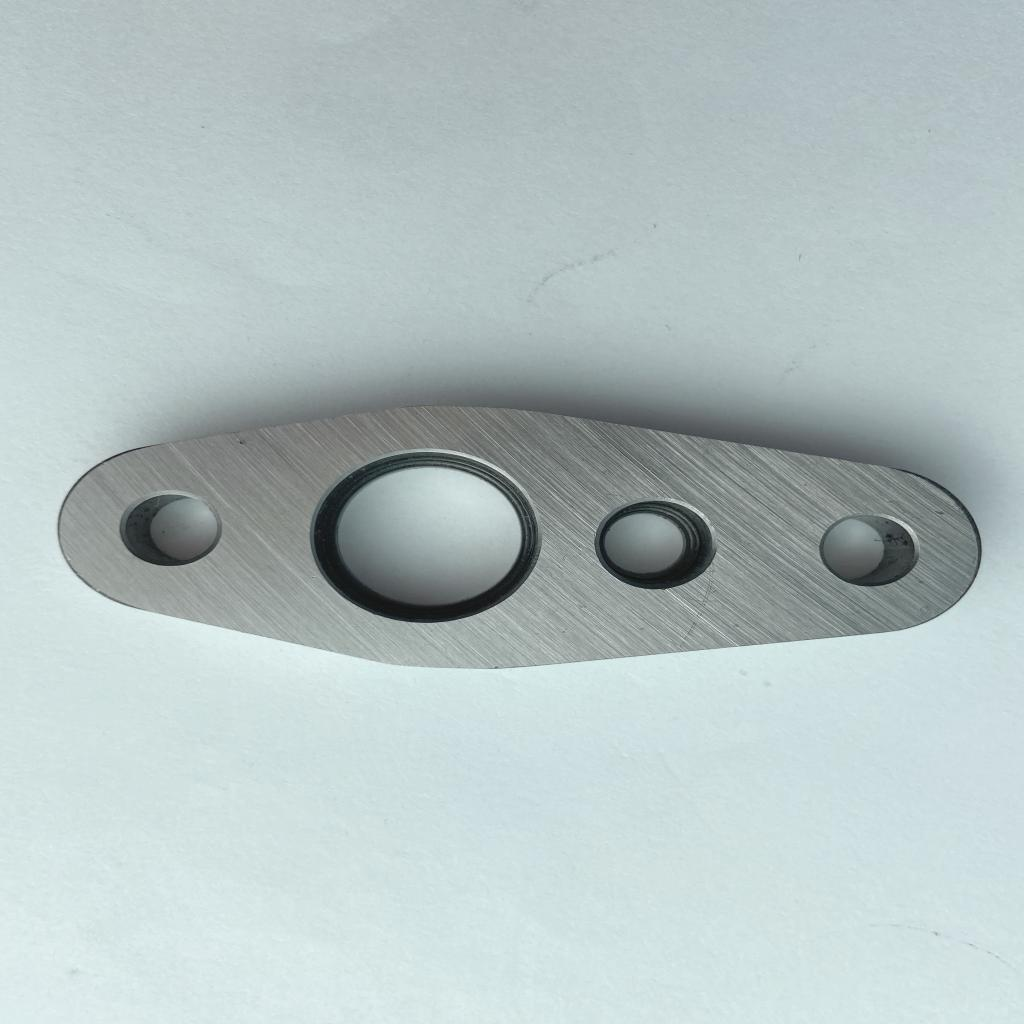chap: (234, 438, 250, 449), (308, 574, 320, 580)
lines: (674, 589, 710, 649), (932, 510, 946, 516)
